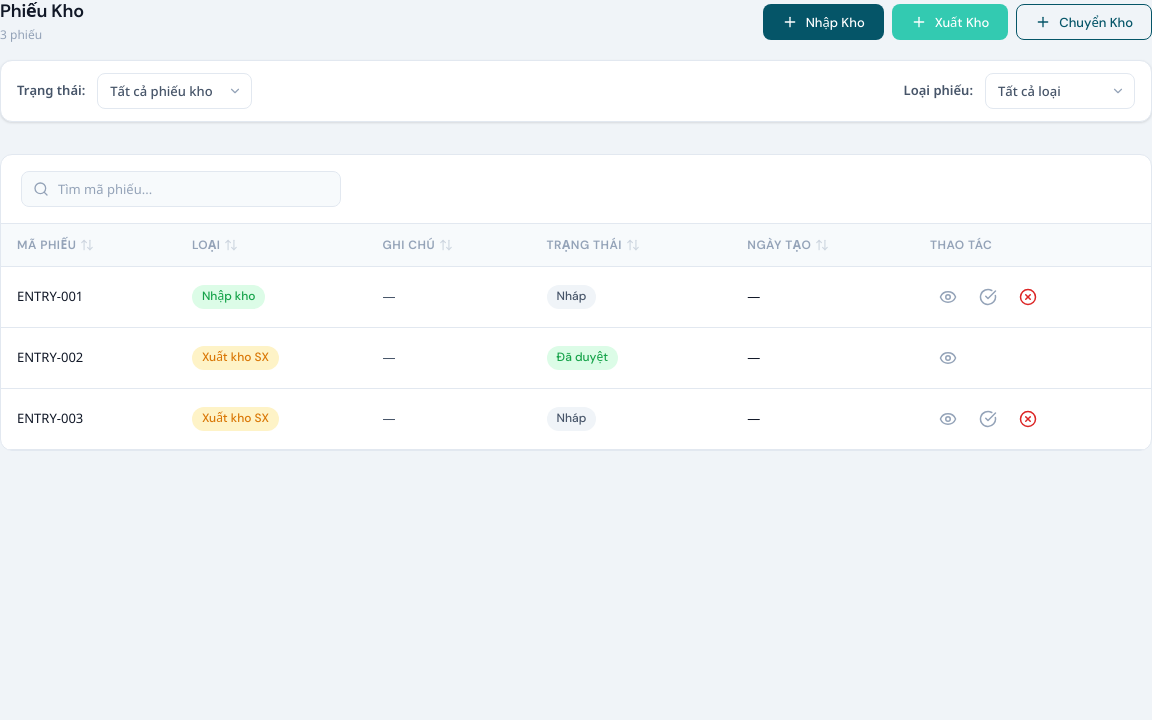
Scenario: StockEntryList › opens detail modal
The image size is (1152, 720).
Expected: the text "ENTRY-001" is shown, [1,266,176,328]
Click the button named "chi tiết" in the row of "ENTRY-001".
click(948, 297)  # box [930,279,966,315]
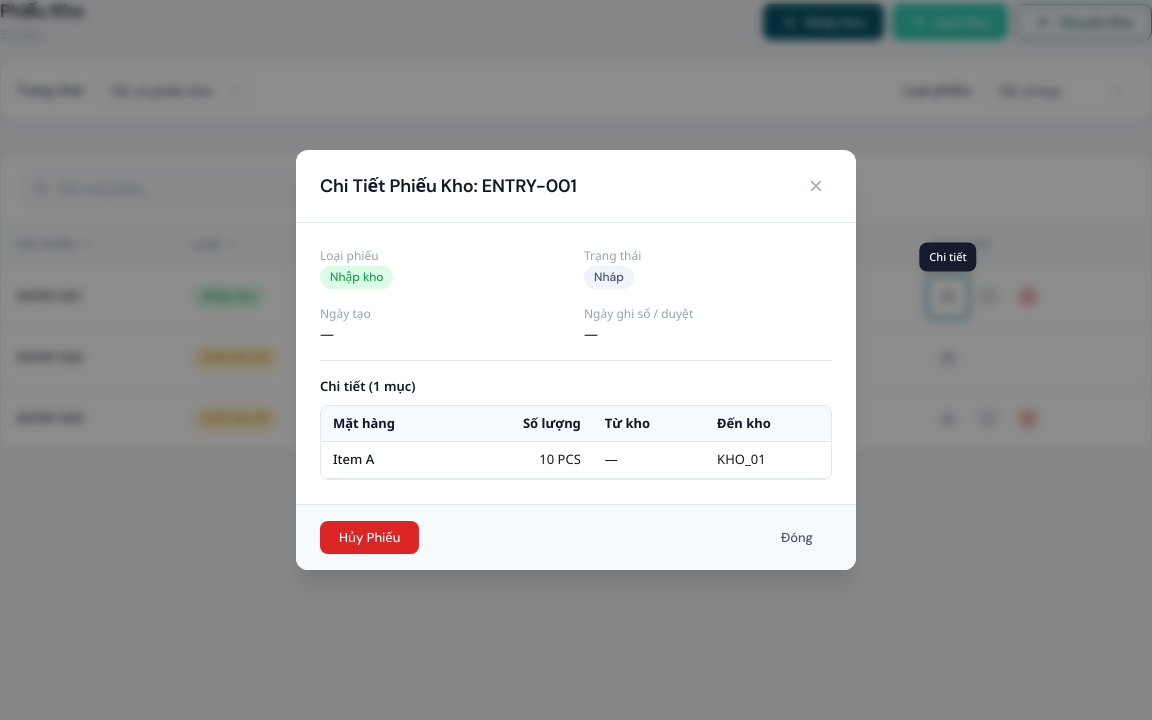
Now the dialog is shown
Now the heading "Chi Tiết Phiếu Kho: ENTRY-001" is shown, box [320,175,576,197]
Now the text "Item A" is shown, box [321,442,460,478]
